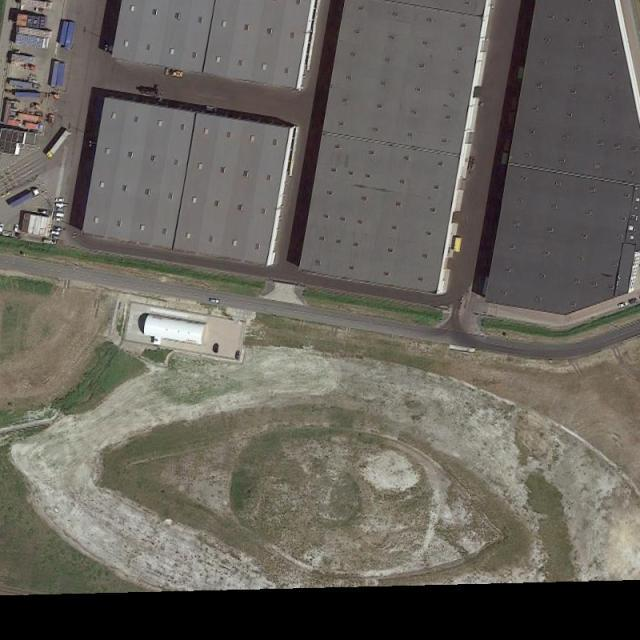vehicle: (46, 129, 73, 160), (8, 188, 40, 209), (235, 350, 242, 362), (54, 211, 65, 218), (13, 224, 20, 234), (214, 343, 220, 354), (50, 230, 61, 236), (208, 298, 221, 303), (618, 302, 628, 308), (55, 207, 66, 212), (54, 226, 63, 232), (629, 298, 639, 303), (54, 202, 63, 207), (53, 217, 62, 222), (56, 198, 66, 202), (1, 223, 4, 234)
